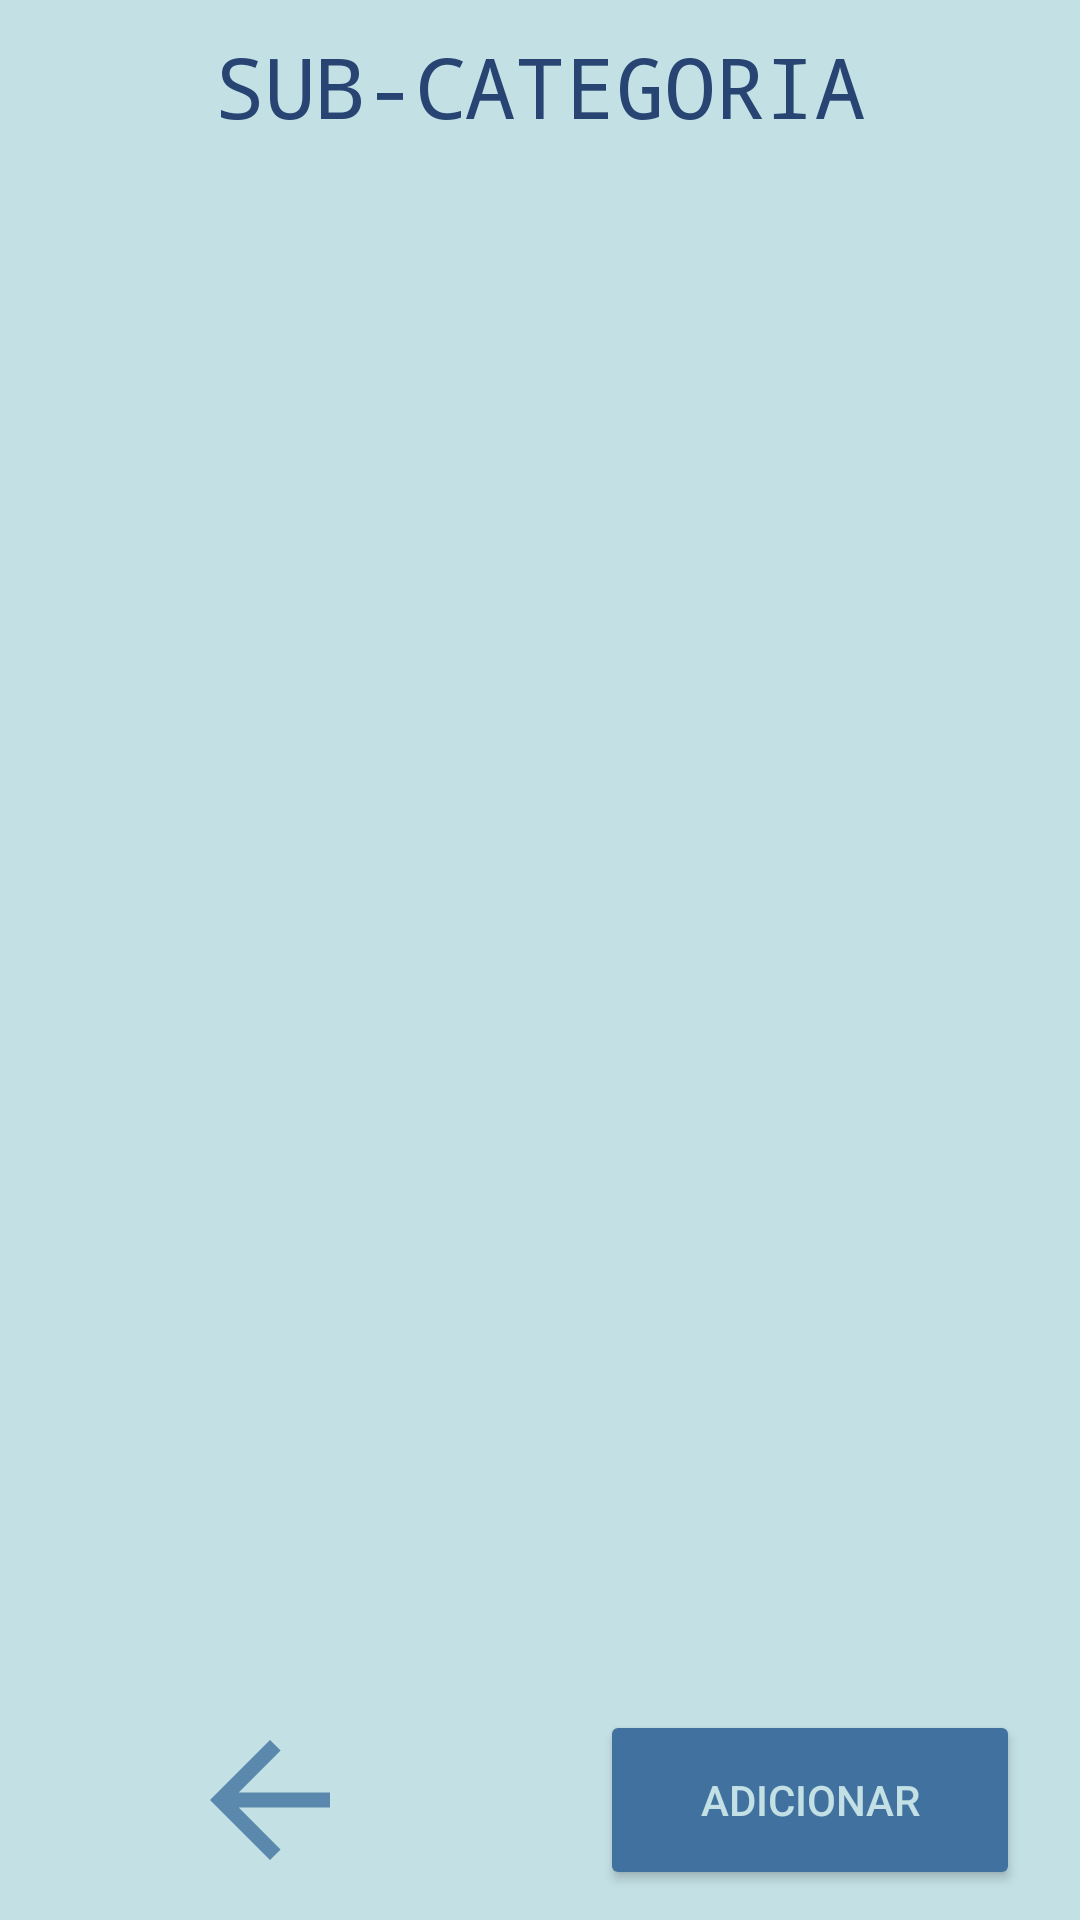

Icon click points for this 1080 x 1920 phone screenshot, format (x,y):
arrow back: (270,1800)
